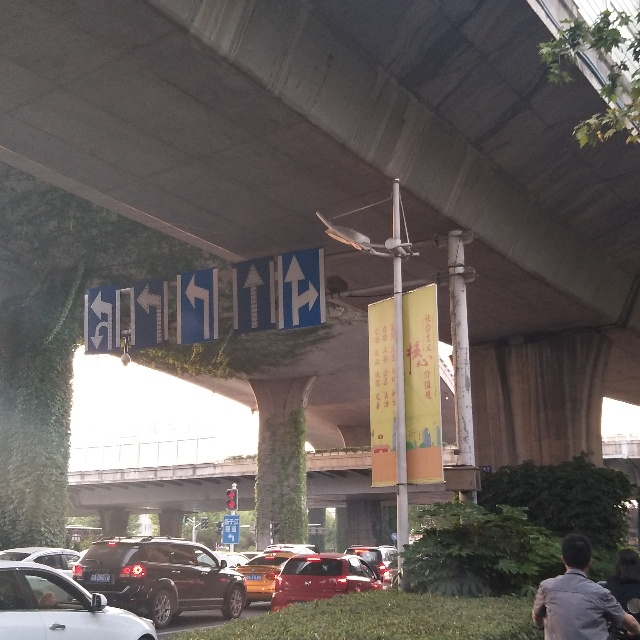left: (175, 268, 220, 342), (130, 281, 169, 346)
straight: (232, 256, 277, 330)
